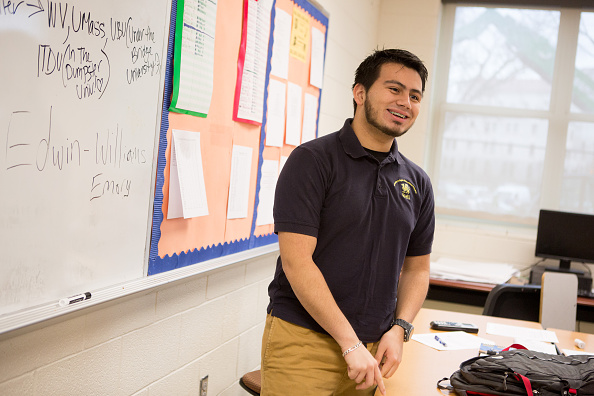em pe: (247, 41, 454, 396)
